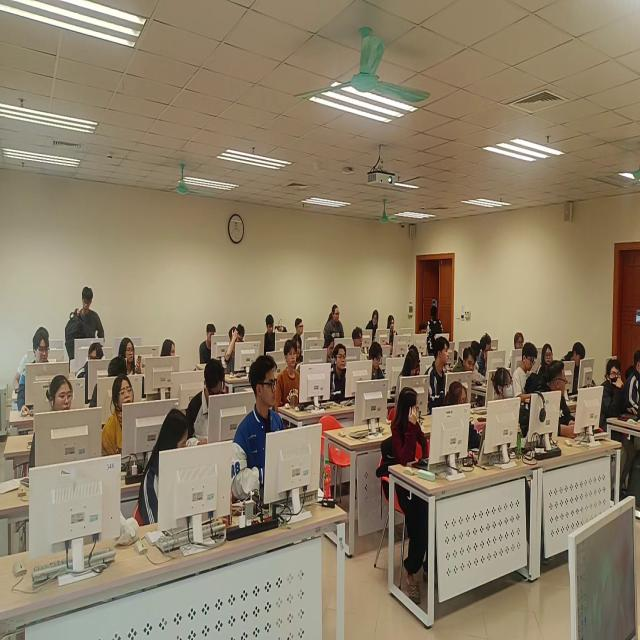raise_head: (232, 354, 285, 503), (493, 366, 529, 450), (102, 374, 137, 457), (597, 356, 626, 437), (277, 338, 301, 419), (331, 343, 350, 407), (453, 344, 477, 380), (509, 329, 525, 376), (539, 343, 554, 378), (352, 325, 363, 349), (294, 315, 305, 336)
stand: (71, 286, 105, 355), (323, 301, 344, 348), (428, 303, 445, 359), (365, 307, 382, 345), (387, 313, 399, 358)
using_computer: (31, 375, 77, 474), (445, 380, 488, 468), (189, 360, 228, 449), (18, 328, 51, 416), (14, 326, 40, 388), (397, 346, 422, 408), (515, 341, 539, 396), (566, 340, 589, 394), (76, 342, 105, 384), (198, 320, 218, 366), (224, 327, 242, 378), (628, 349, 640, 419), (368, 342, 384, 384), (265, 310, 278, 353), (323, 333, 336, 364), (295, 333, 306, 366), (419, 321, 430, 339)
using_phone: (117, 337, 145, 377)
